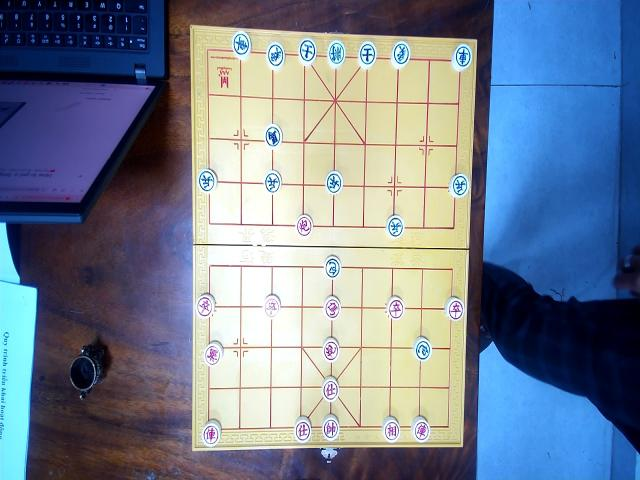piece: (451, 42, 473, 70), (448, 171, 469, 199), (202, 420, 222, 448), (326, 39, 346, 67), (231, 30, 251, 58), (410, 415, 430, 442), (202, 340, 222, 367), (390, 41, 410, 68), (298, 36, 317, 64), (294, 415, 312, 444), (412, 336, 432, 362), (382, 415, 401, 442), (266, 42, 284, 70), (444, 296, 464, 321), (197, 167, 217, 192), (195, 292, 214, 318), (322, 337, 340, 364), (358, 41, 376, 68), (322, 295, 341, 320), (322, 415, 340, 441), (263, 123, 281, 149), (324, 170, 342, 195), (321, 376, 338, 402), (386, 214, 404, 238), (386, 295, 404, 319), (324, 255, 341, 280), (263, 294, 280, 318), (296, 214, 312, 238), (264, 170, 280, 193)
